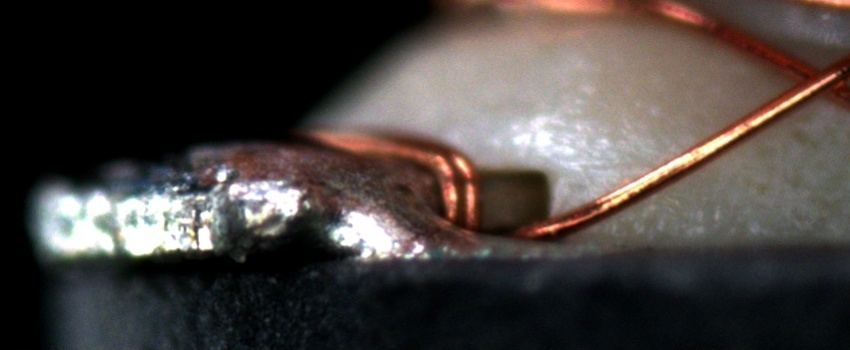CL: (779, 49, 846, 105)
DL: (561, 135, 667, 200)
TE: (316, 130, 487, 225)
